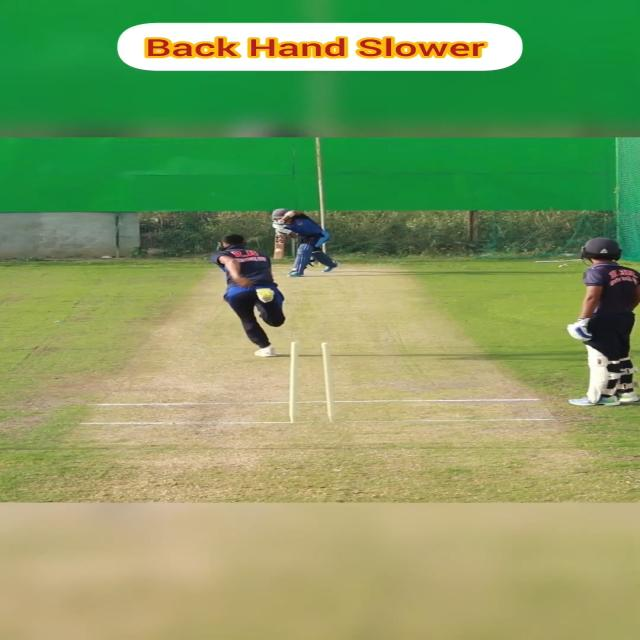stump: (287, 342, 338, 422)
